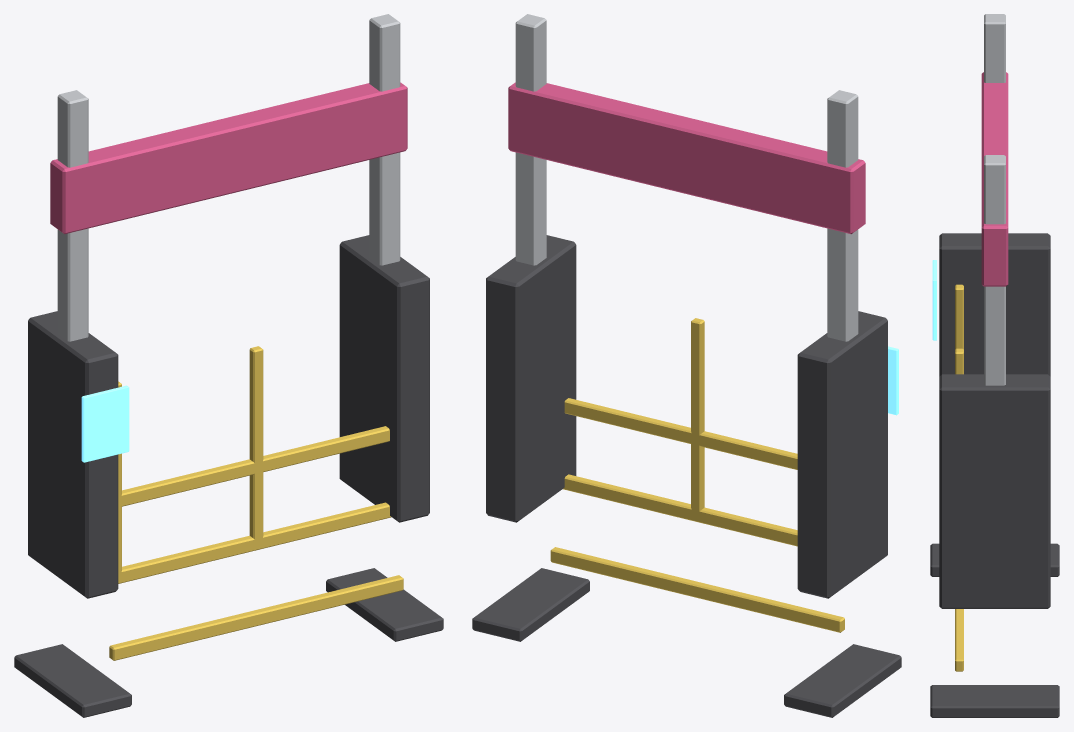
The model's file is live-music-venue-and-festival-stage-ticket-gate-74fe447f__33935.glb.
3 renders of one model, left to right at view 1: azimuth 30°, elevation 25°; view 2: azimuth 150°, elevation 25°; view 3: azimuth 270°, elevation 25°, orthographic. The views are drawn at different scales.
Visible parts, largest first — view 1: ticket-gate, gate; view 2: ticket-gate, gate; view 3: ticket-gate, gate.
Part boxes in pixels (left/top/right/bottom): ticket-gate: left=14, top=14, right=443, bottom=717; gate: left=109, top=346, right=403, bottom=660; ticket-gate: left=472, top=14, right=901, bottom=717; gate: left=550, top=318, right=844, bottom=632; ticket-gate: left=930, top=14, right=1059, bottom=717; gate: left=955, top=284, right=963, bottom=671.
Bounding box in the file's own units: 1.74 × 2.72 × 0.5799.
